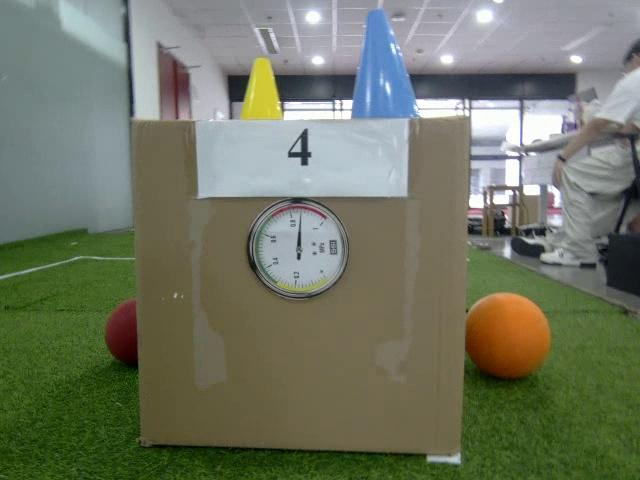4: (286, 128, 314, 166)
Dashboard: (246, 198, 350, 302)
blue_barrel: (348, 10, 425, 120)
orange_ball: (467, 292, 553, 382)
red_ball: (103, 298, 139, 364)
ssi: (327, 237, 339, 258)
yellow_barrel: (238, 58, 285, 122)
